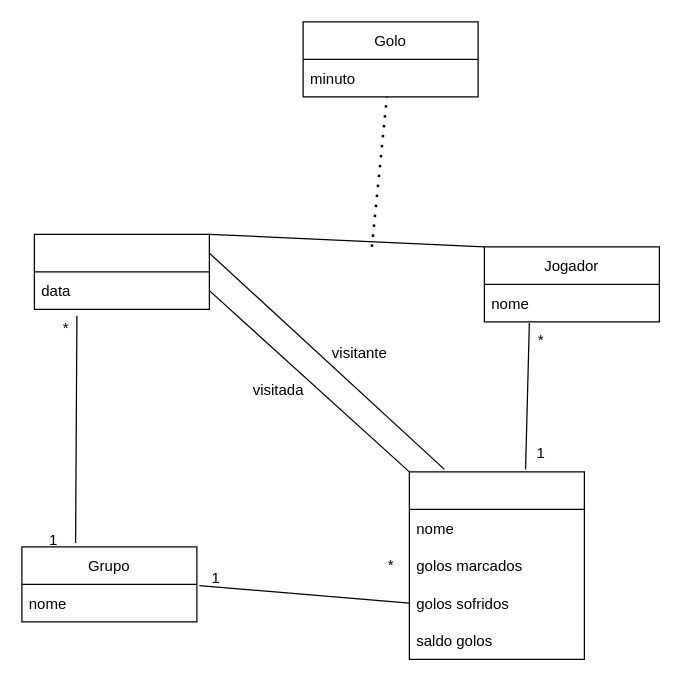
Some shapes in this 681 by 681 pixel diagram are drawn without their labels. Here are the shapes that lost their labels. From the top down, the box of each, then its label:
(33, 233, 209, 309): Jogo
(408, 471, 584, 659): Equipa
